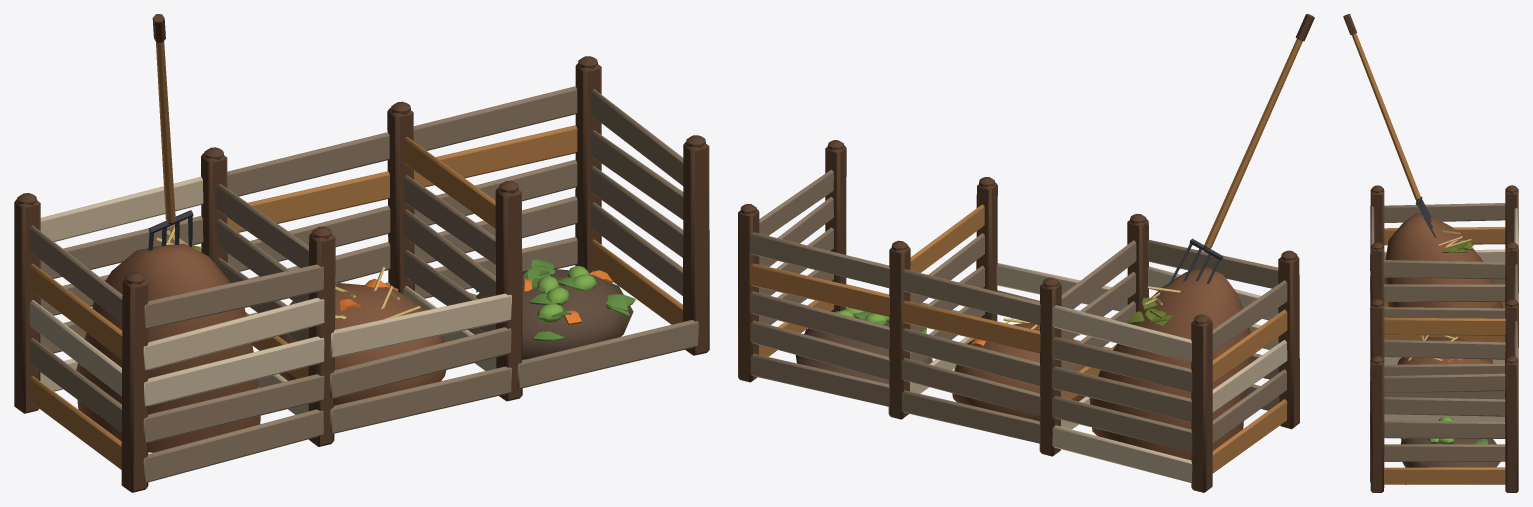
File: deco_compost_bin.fbx
3 renders of one model, left to right at view 1: azimuth 30°, elevation 25°; view 2: azimuth 150°, elevation 25°; view 3: azimuth 270°, elevation 25°, orthographic. The views are drawn at different scales.
Parts seen in each view (by area): view 1: CompostBin_Bin, CompostBin_Compost, CompostBin_Fork; view 2: CompostBin_Bin, CompostBin_Compost, CompostBin_Fork; view 3: CompostBin_Bin, CompostBin_Compost, CompostBin_Fork.
Part boxes in pixels (<box>): CompostBin_Bin: <box>14,56,709,492</box>; CompostBin_Compost: <box>76,225,635,452</box>; CompostBin_Fork: <box>148,14,193,250</box>; CompostBin_Bin: <box>738,140,1299,492</box>; CompostBin_Compost: <box>795,267,1252,460</box>; CompostBin_Fork: <box>1168,14,1314,285</box>; CompostBin_Bin: <box>1370,185,1518,492</box>; CompostBin_Compost: <box>1385,213,1502,484</box>; CompostBin_Fork: <box>1343,14,1436,237</box>.
Bounding box in the file's own units: 310 × 254 × 131.
